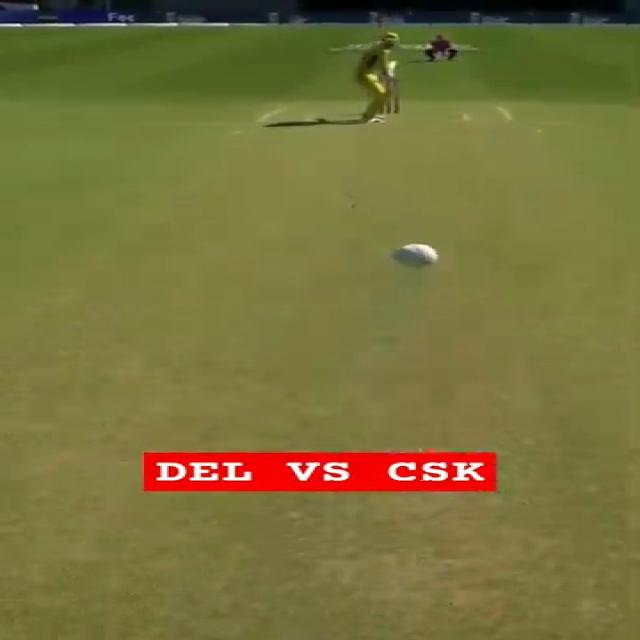ball: (386, 242, 443, 278)
